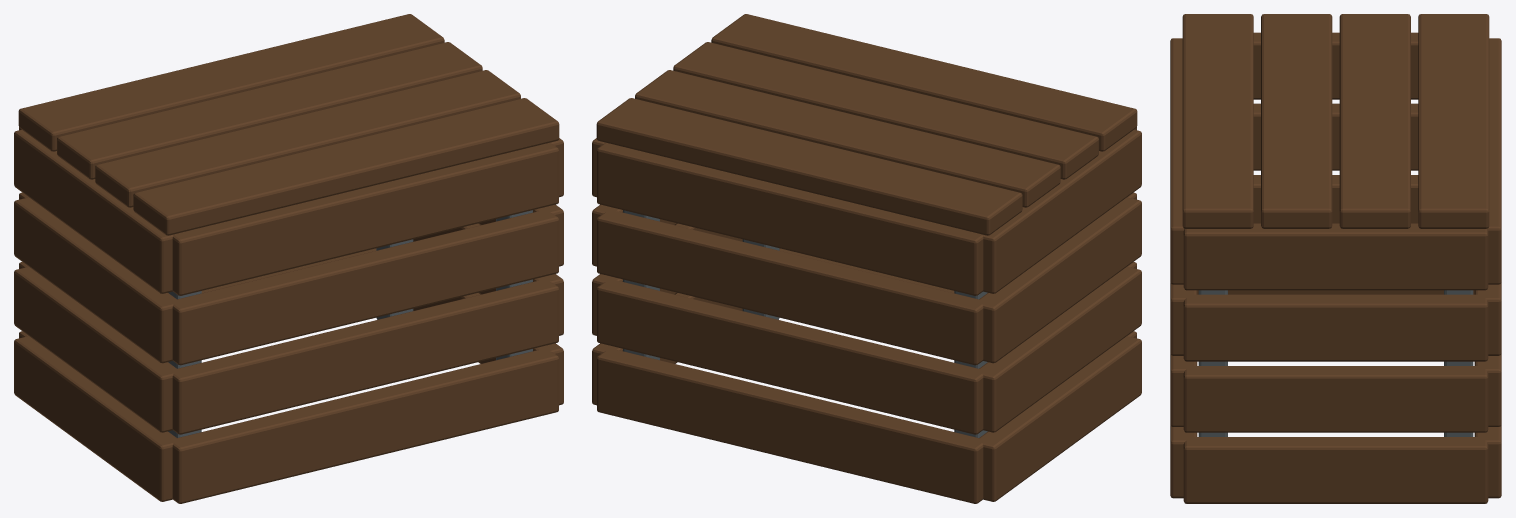
The model's file is SupplyCrate.glb.
3 views of the same model, side by side, from view 1: azimuth 30°, elevation 25°; view 2: azimuth 150°, elevation 25°; view 3: azimuth 270°, elevation 25° (orthographic). The views are drawn at different scales.
Parts seen in each view (by area): view 1: SupplyCrate; view 2: SupplyCrate; view 3: SupplyCrate.
Boxes of the visible parts, bbox=[...] form: SupplyCrate: bbox=[14, 14, 563, 503]; SupplyCrate: bbox=[592, 14, 1141, 503]; SupplyCrate: bbox=[1170, 14, 1501, 503].
Size of the model in its own units: 0.975 by 0.6725 by 0.675.
